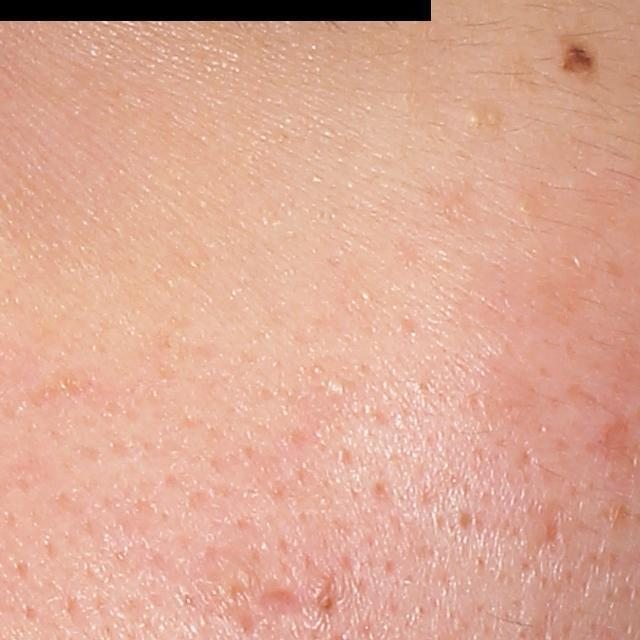atrophic_scar: (261, 586, 301, 615)
nevus: (557, 40, 606, 80)
